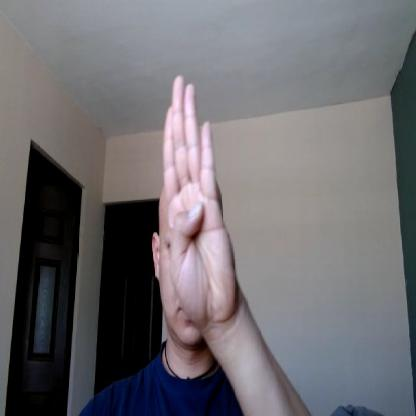B: (162, 75, 236, 322)
